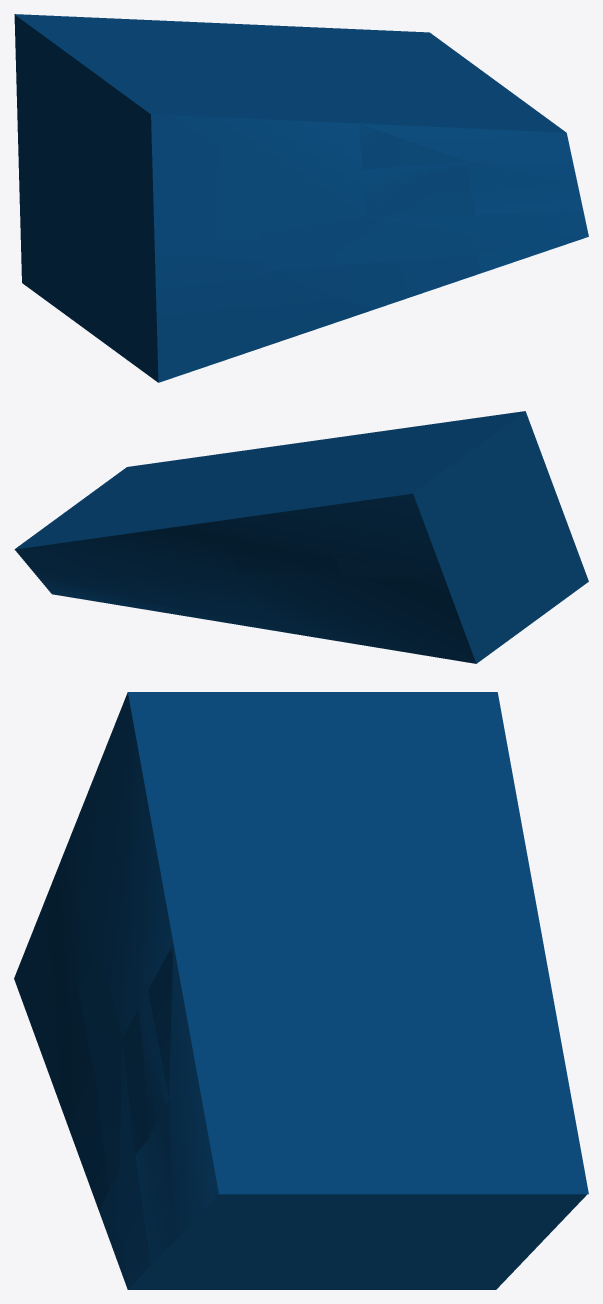
Rendered from FracturedPart.fbx.
3 renders of one model, top to bottom at view 1: azimuth 30°, elevation 25°; view 2: azimuth 150°, elevation 25°; view 3: azimuth 270°, elevation 25°, orthographic. The views are drawn at different scales.
Visible parts, largest first — view 1: Arch, Arch_cell.027, Arch_cell, Arch_cell.024, Arch_cell.013, Arch_cell.015, Arch_cell.003, Arch_cell.014, Arch_cell.010, Arch_cell.005; view 2: Arch, Arch_cell.010, Arch_cell.013, Arch_cell.026, Arch_cell.030, Arch_cell.003, Arch_cell.011, Arch_cell; view 3: Arch, Arch_cell.027, Arch_cell.015, Arch_cell.024, Arch_cell.016, Arch_cell, Arch_cell.006, Arch_cell.014, Arch_cell.029, Arch_cell.005.
Part boxes in pixels (x1,y1,x2,y2): Arch: [14, 14, 588, 382]; Arch_cell.027: [261, 163, 476, 270]; Arch_cell: [125, 307, 265, 382]; Arch_cell.024: [266, 255, 480, 309]; Arch_cell.013: [56, 263, 130, 357]; Arch_cell.015: [468, 161, 583, 214]; Arch_cell.003: [20, 216, 61, 307]; Arch_cell.014: [255, 118, 466, 169]; Arch_cell.010: [20, 99, 58, 217]; Arch_cell.005: [477, 237, 587, 272]; Arch: [14, 411, 588, 663]; Arch_cell.010: [334, 529, 477, 620]; Arch_cell.013: [499, 562, 560, 642]; Arch_cell.026: [227, 548, 340, 576]; Arch_cell.030: [471, 469, 534, 604]; Arch_cell.003: [461, 596, 504, 663]; Arch_cell.011: [525, 454, 572, 542]; Arch_cell: [557, 572, 580, 601]; Arch: [42, 692, 588, 1289]; Arch_cell.027: [76, 940, 164, 1188]; Arch_cell.015: [135, 1100, 247, 1289]; Arch_cell.024: [71, 981, 108, 1211]; Arch_cell.016: [232, 1232, 368, 1289]; Arch_cell: [14, 908, 58, 1055]; Arch_cell.006: [417, 1232, 517, 1289]; Arch_cell.014: [148, 818, 195, 1096]; Arch_cell.029: [300, 1220, 414, 1289]; Arch_cell.005: [99, 1191, 152, 1288].
Size of the model in its own units: 102 by 46.34 by 78.04.
